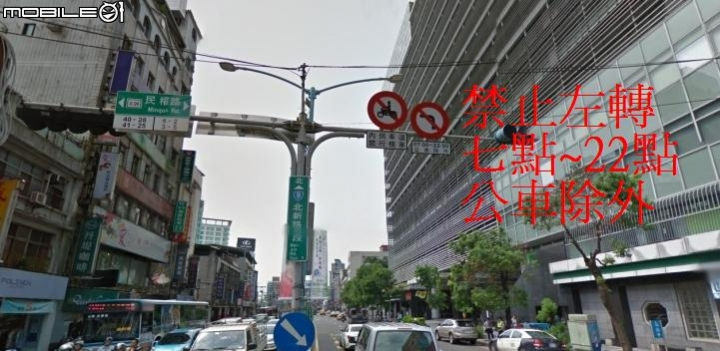No_left_turn: (411, 102, 450, 139)
